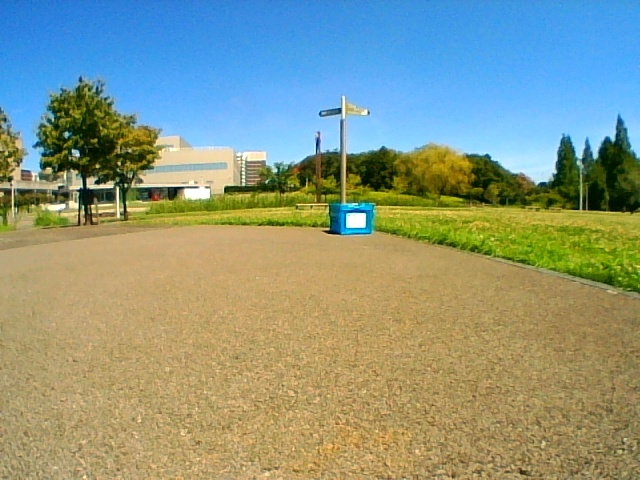blue_box: (329, 203, 372, 233)
tag: (345, 212, 366, 227)
